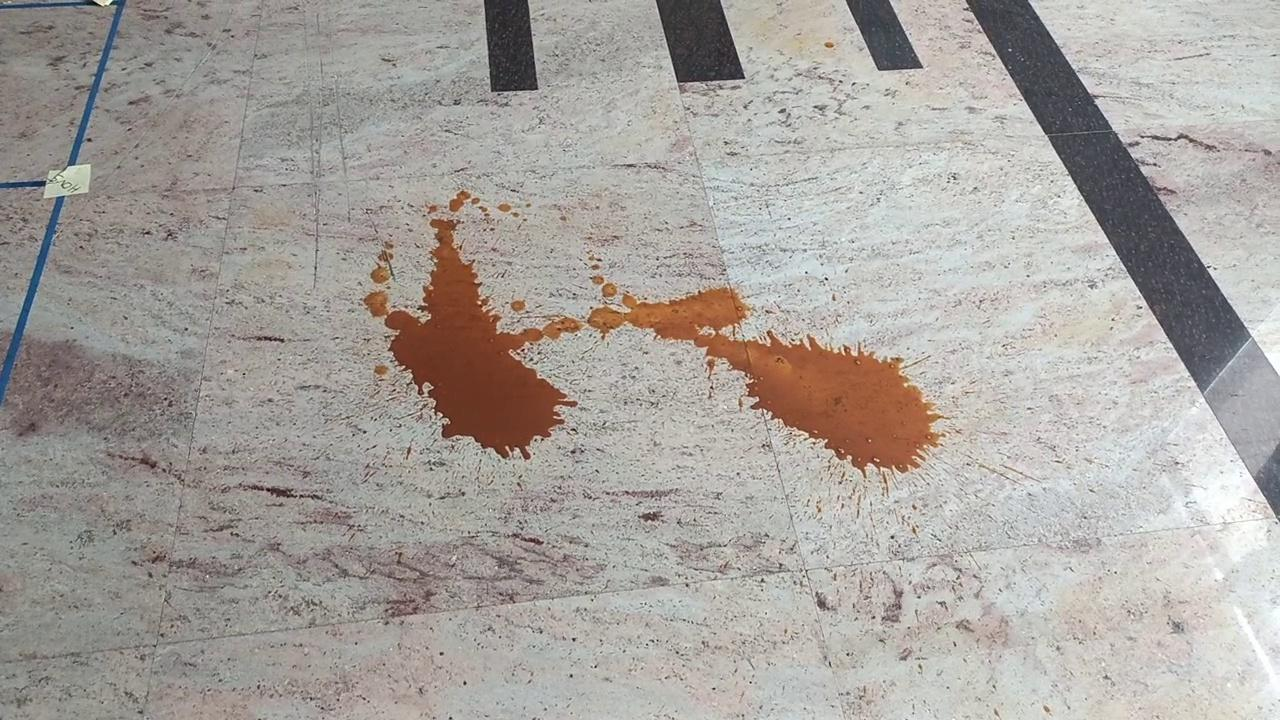dirty_floor: (365, 191, 943, 483)
